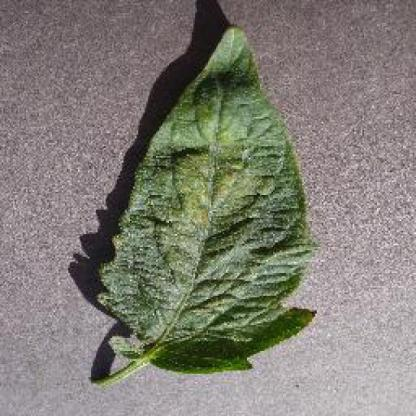Tomato_Spider_Mites: (99, 27, 315, 368)
